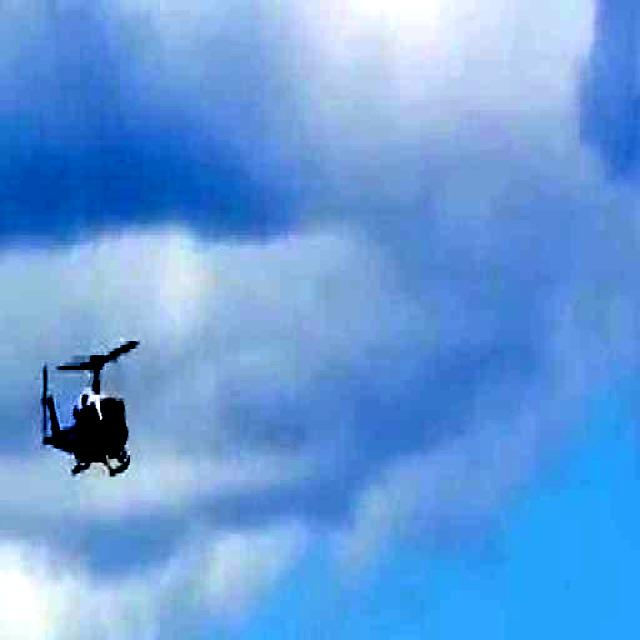drone: (39, 331, 142, 484)
